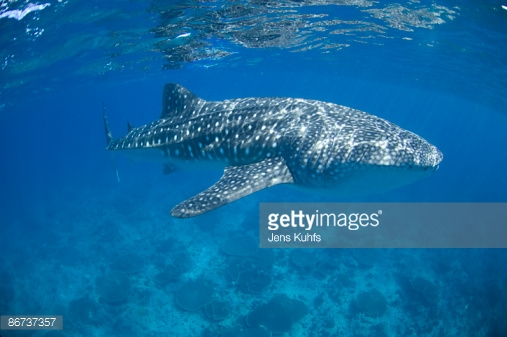Rhincodon_typusw: (93, 78, 447, 207)
